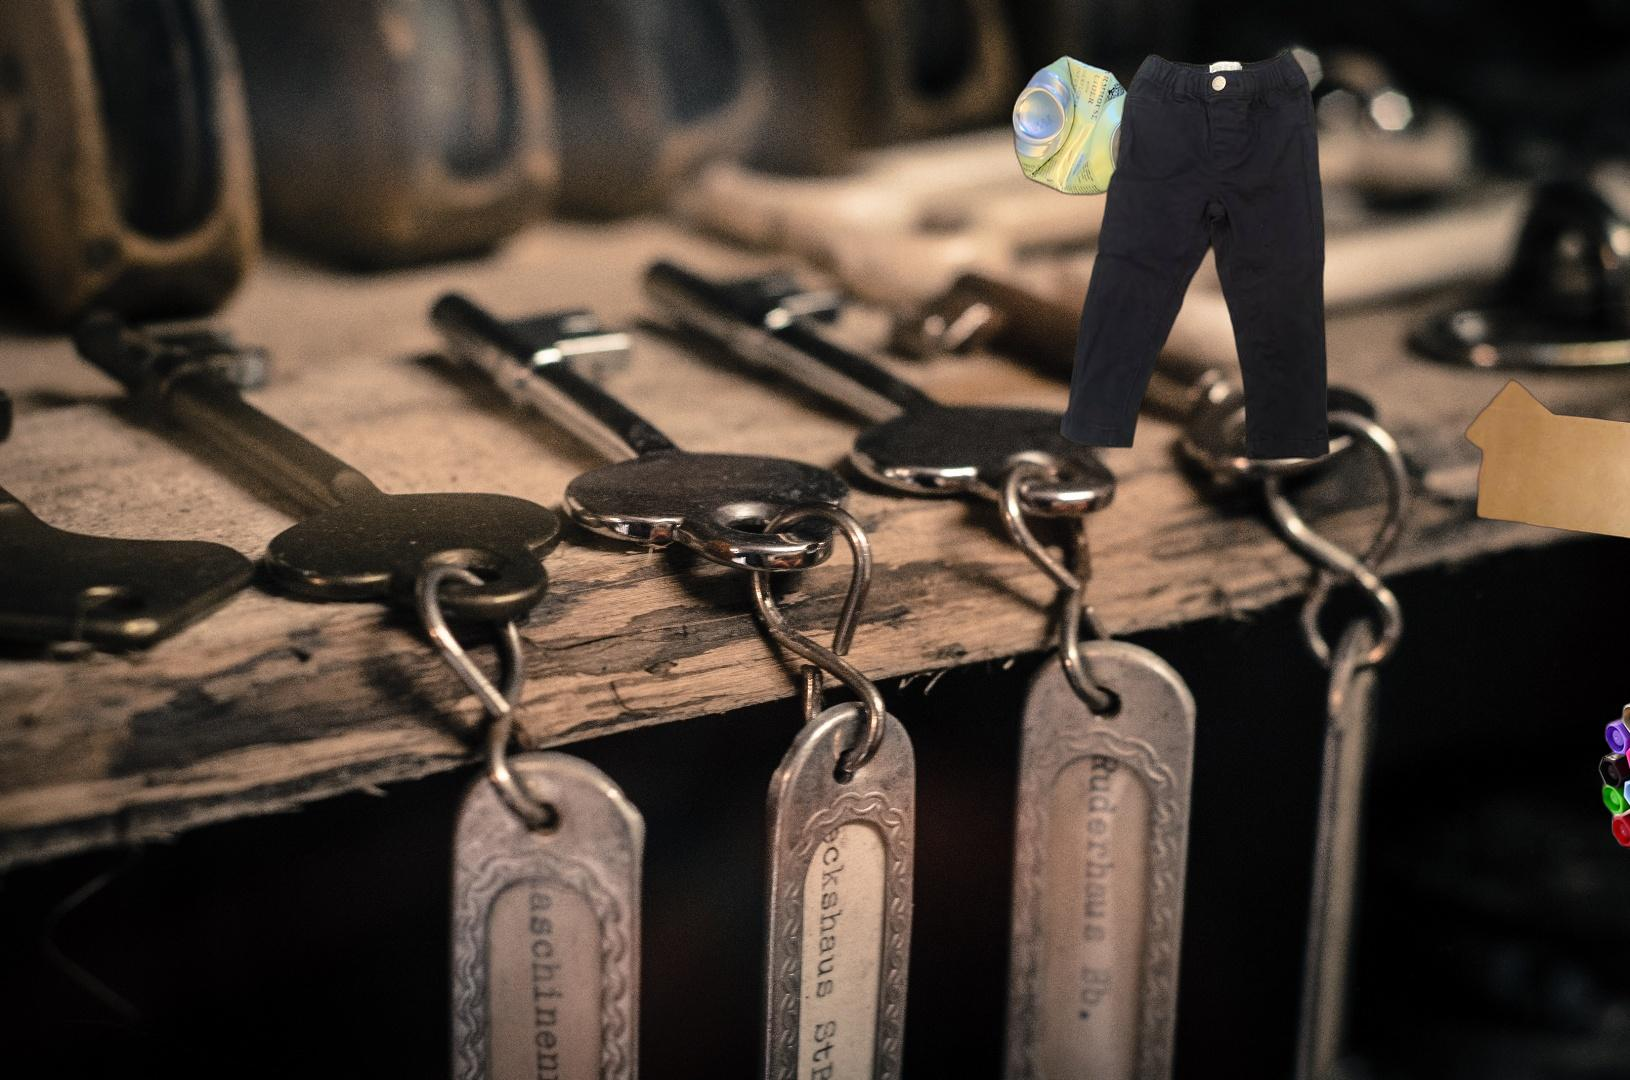clothes: (1057, 45, 1332, 465)
metal-cans: (937, 49, 1357, 665)
paper-bag: (1463, 377, 1630, 542)
penholder: (1594, 546, 1630, 937)
